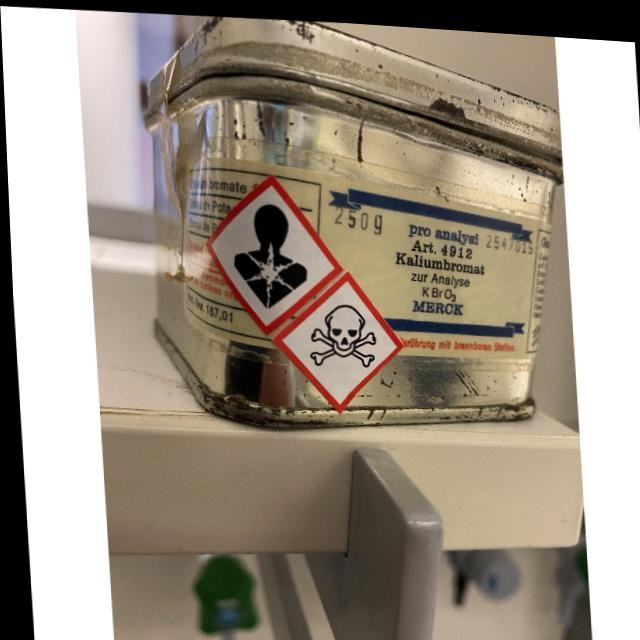acute toxicity: (266, 260, 403, 413)
serious health hazard: (198, 166, 344, 336)
